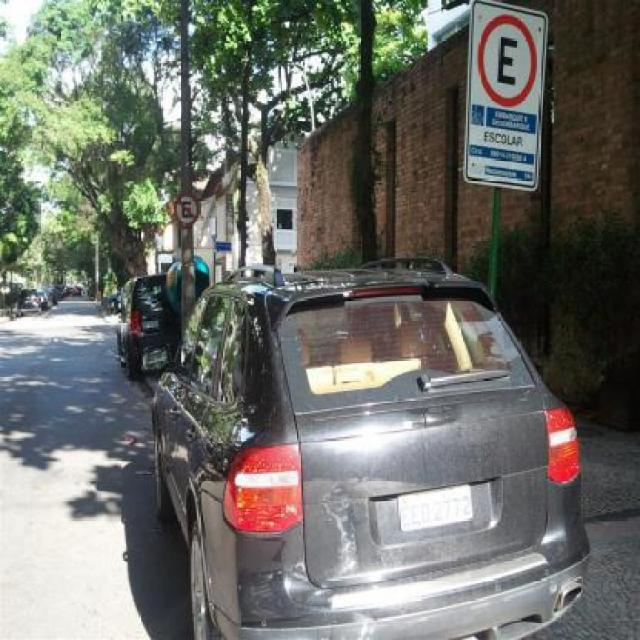License-Plates: (398, 486, 472, 530)
